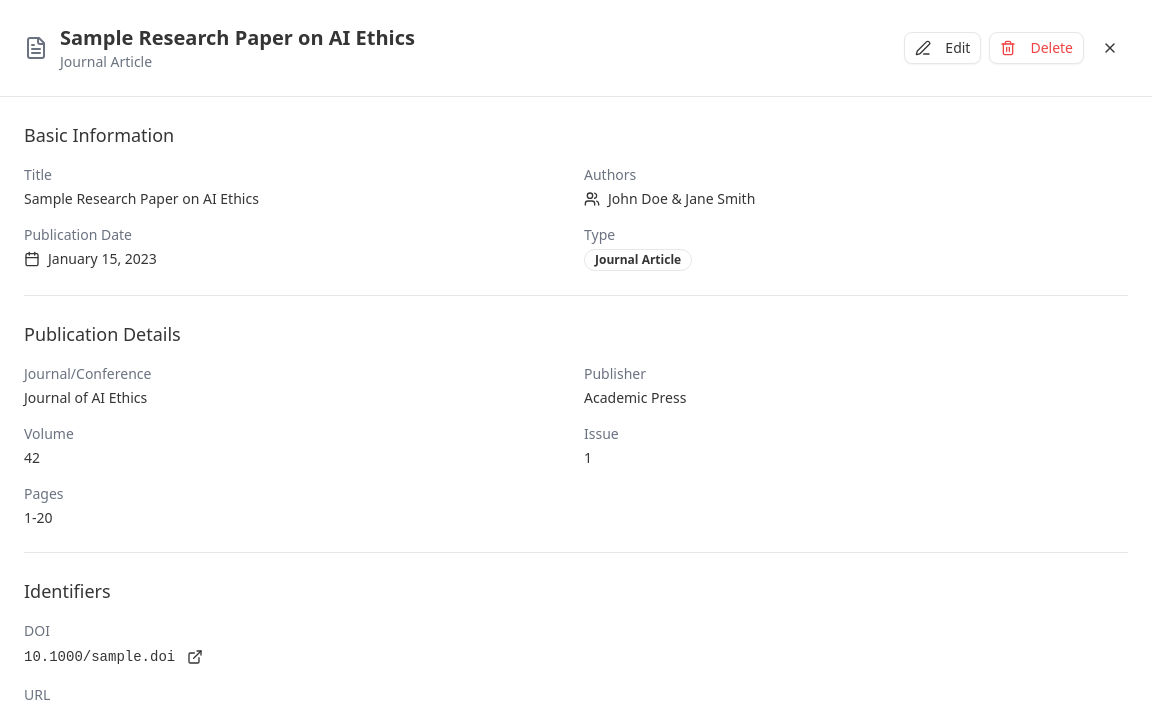
Test case: ReferenceDetail › Actions › should cancel deletion
# Open delete dialog
Click the button "Delete" at [1037, 48], box [989,32,1084,64]
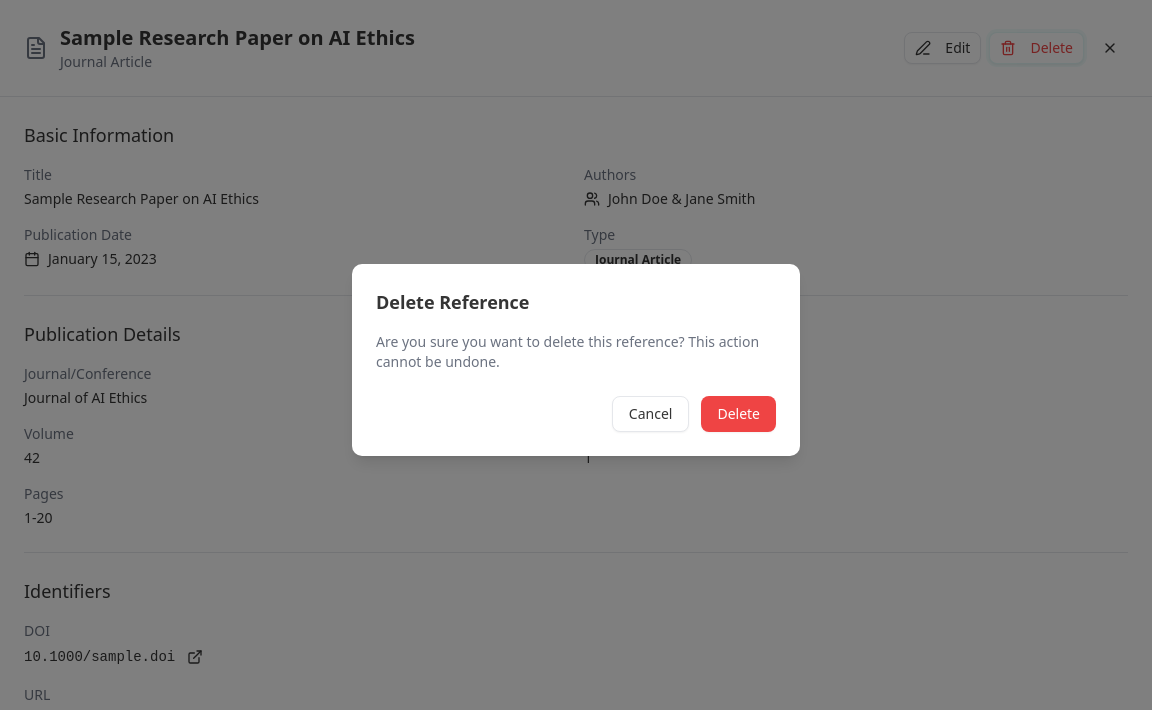
# Cancel deletion
Click the button "Cancel" at [651, 414], box [612,396,689,432]
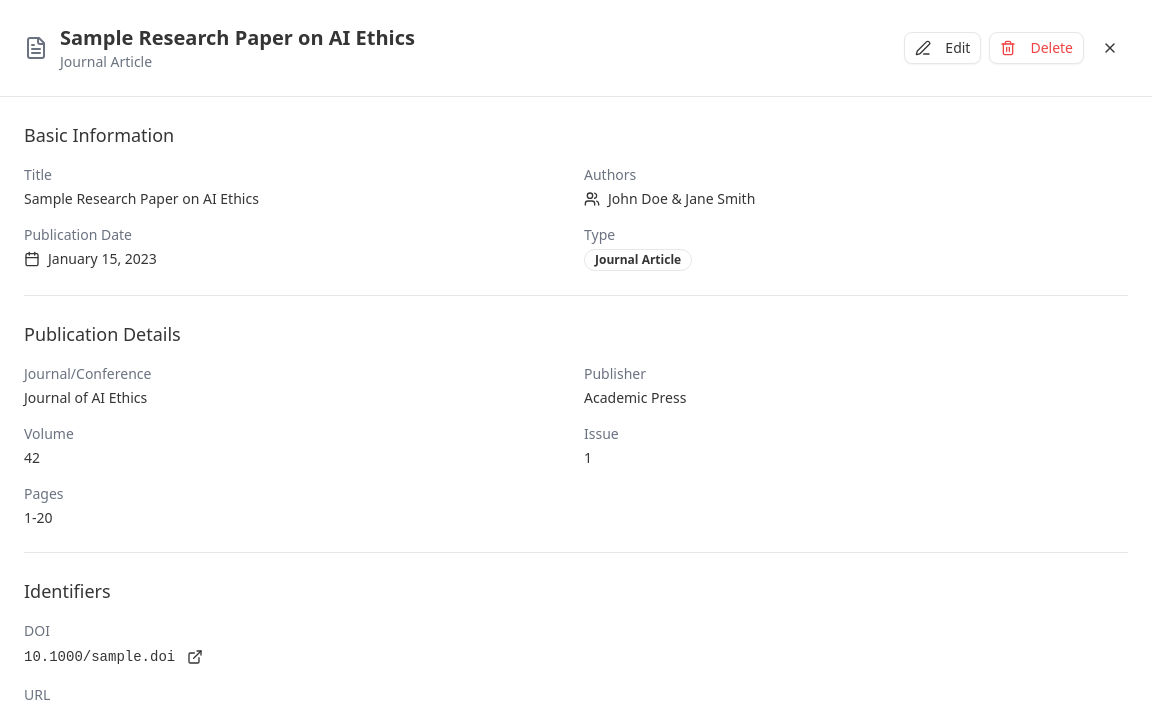
Check: the heading "Delete Reference" is gone
